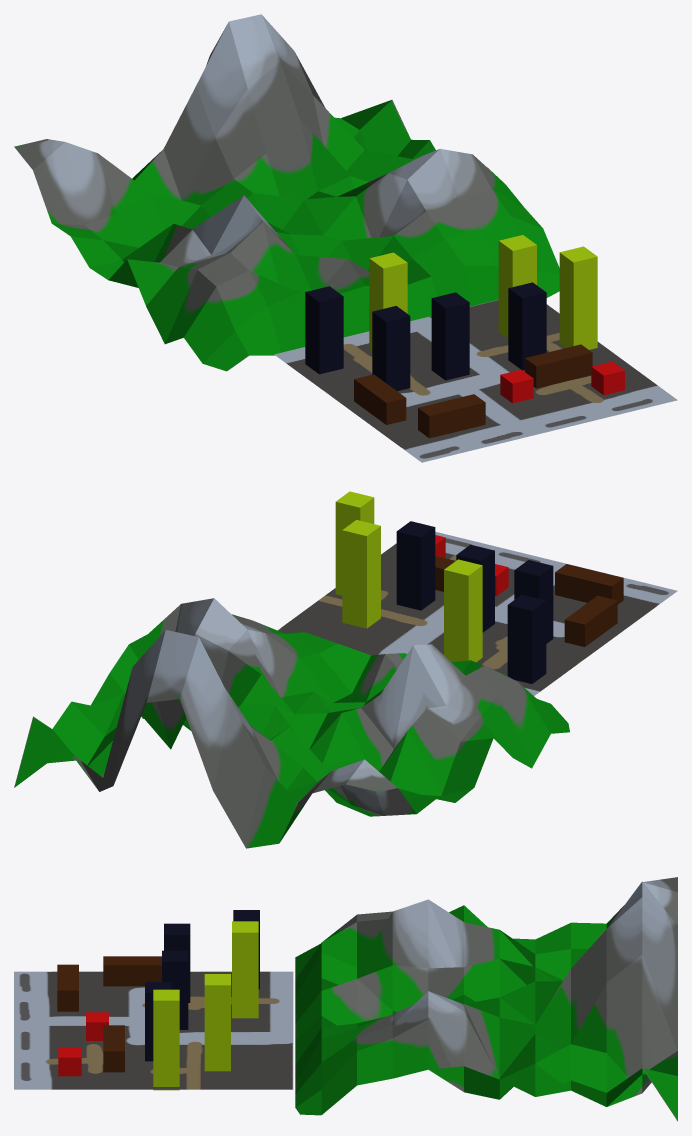
Rendered from city.obj.
The picture shows the model from 3 angles, top to bottom: view 1: azimuth 30°, elevation 25°; view 2: azimuth 150°, elevation 25°; view 3: azimuth 270°, elevation 25°; orthographic projection. The views are drawn at different scales.
Parts seen in each view (by area): view 1: Plane.001; view 2: Plane.001; view 3: Plane.001.
Boxes of the visible parts, <box> form: Plane.001: <box>14,14,677,462</box>; Plane.001: <box>14,491,677,848</box>; Plane.001: <box>14,877,677,1121</box>.
Size of the model in its own units: 57.7 by 27.77 by 97.69.
